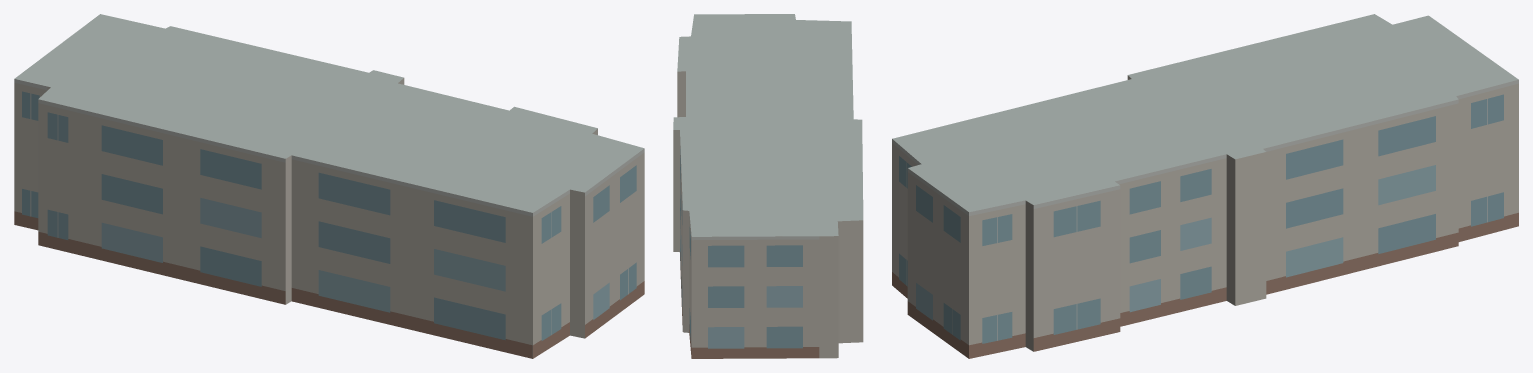
The model's file is survey-upis-32954480.glb.
The picture shows the model from 3 angles, left to right: view 1: azimuth 30°, elevation 25°; view 2: azimuth 150°, elevation 25°; view 3: azimuth 270°, elevation 25°; orthographic projection. The views are drawn at different scales.
Visible parts, largest first — view 1: survey-upis-32954480.tmp; view 2: survey-upis-32954480.tmp; view 3: survey-upis-32954480.tmp.
Boxes of the visible parts, x1,y1,x2,y2 form: survey-upis-32954480.tmp: [14, 14, 644, 358]; survey-upis-32954480.tmp: [673, 14, 863, 358]; survey-upis-32954480.tmp: [892, 14, 1518, 358].
Bounding box in the file's own units: 26.54 × 9.15 × 35.45.
